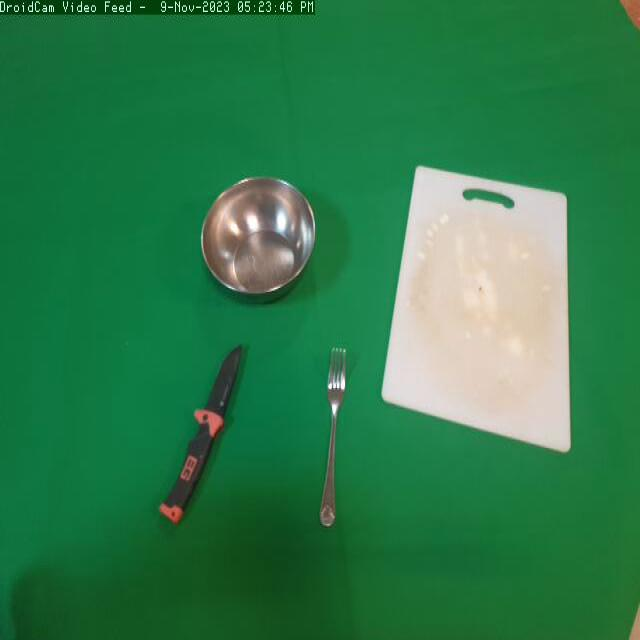bowl: (191, 164, 323, 325)
cutting board: (378, 151, 581, 463)
fork: (316, 337, 354, 540)
knife: (154, 332, 258, 538)
